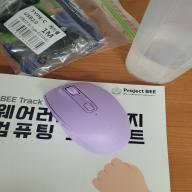mouse: (37, 78, 133, 156)
